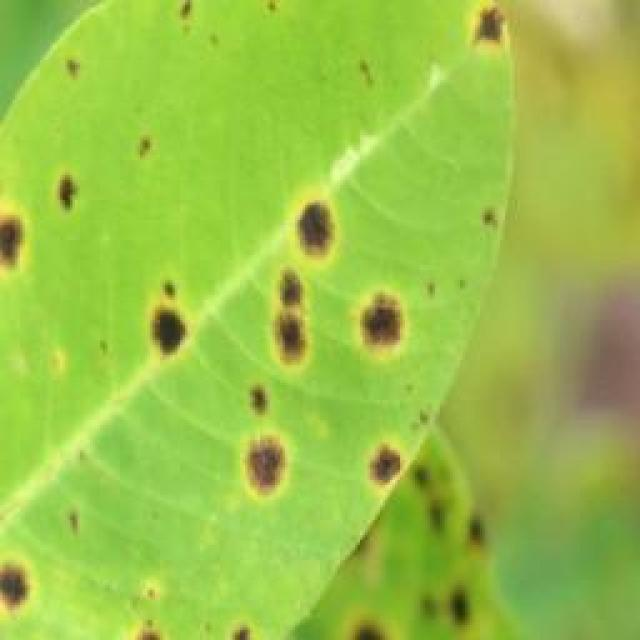Yellowish: (0, 0, 527, 640)
